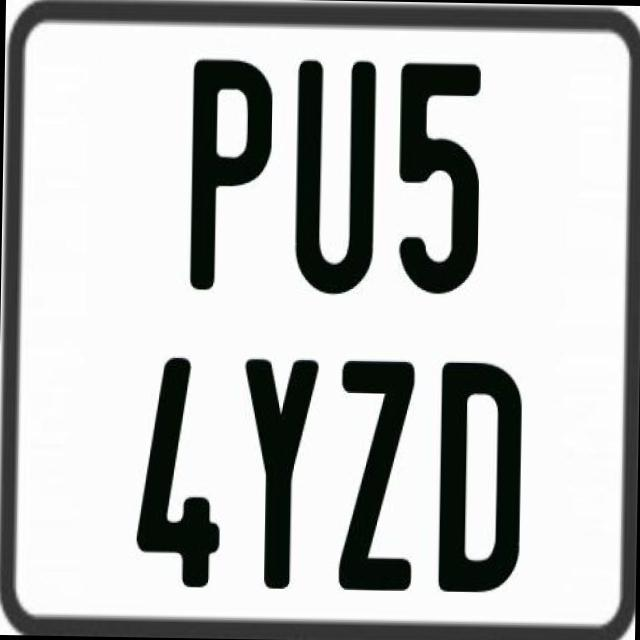4: (131, 356, 225, 594)
5: (392, 59, 482, 297)
D: (434, 361, 520, 591)
P: (188, 57, 276, 290)
U: (293, 55, 375, 288)
Y: (240, 356, 322, 590)
Z: (334, 361, 414, 595)
